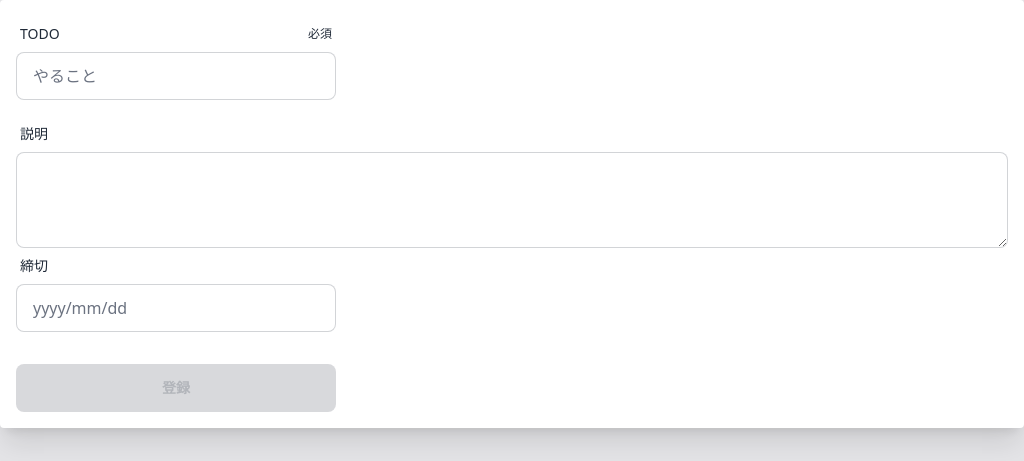
Test: Form › 登録ボタンの活性非活性 › TODOのみを入力したとき
In the field with test id "titleInputField": (176, 76) x1=16 y1=52 x2=336 y2=100, type "Title"
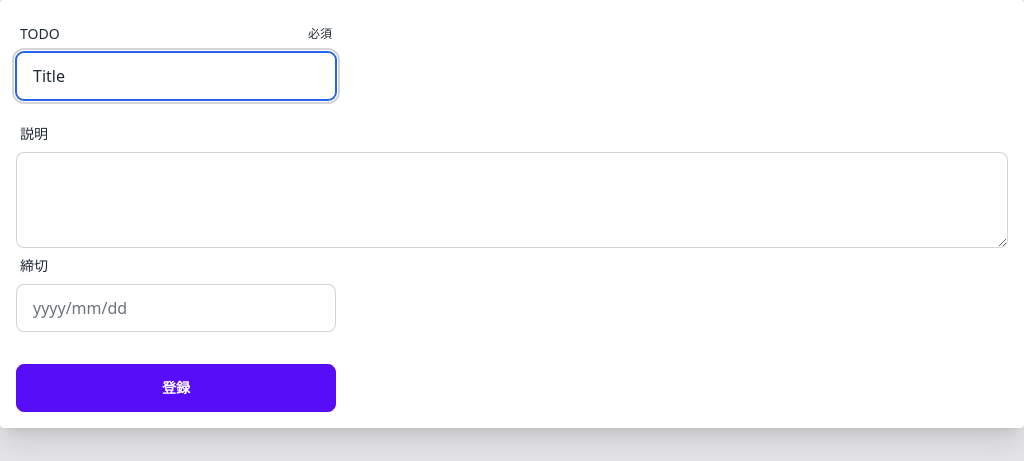
Check: the button with test id "submitButton" is enabled, box x1=16 y1=364 x2=336 y2=412
